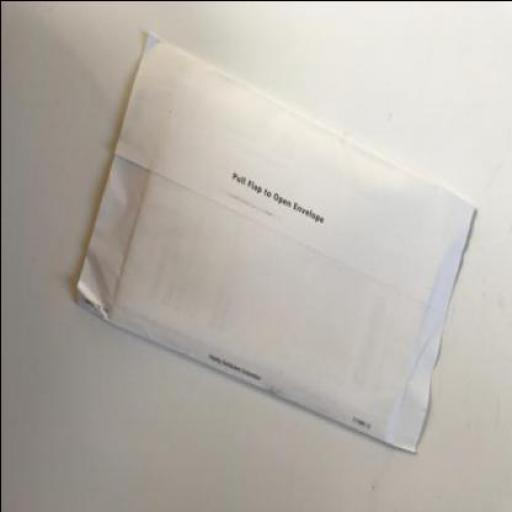paper: (75, 31, 480, 455)
